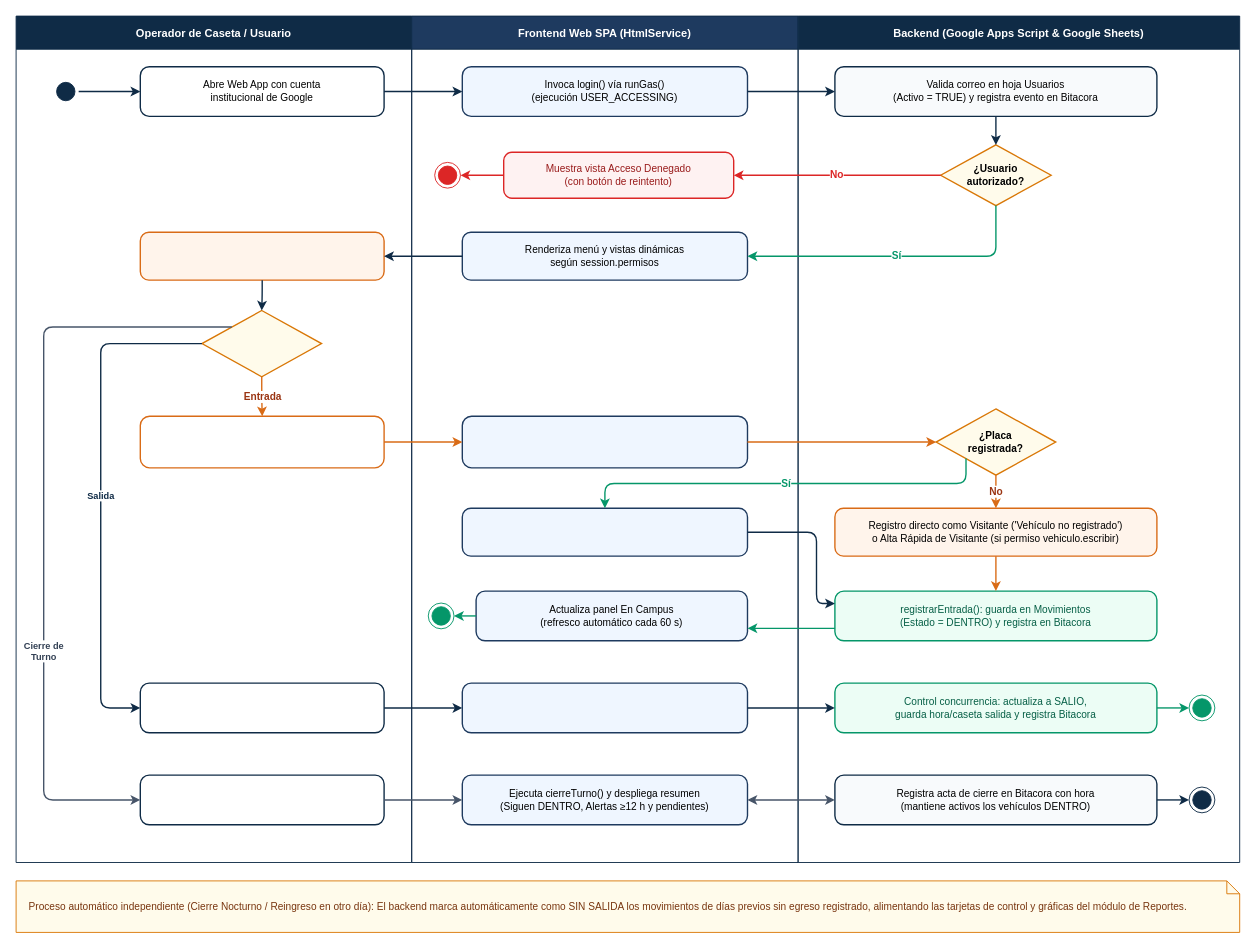
The diagram is 1256 pixels wide and 949 high, and some of its shapes have lost their labels. The shapes that lost their labels are listed below. From the top down, each one's centre as x and y in pixels, then its label:
At (x=261, y=255): "Selecciona Caseta Activa (obligatorio) Caseta 1 Principal / 2 Norte / 3 Sur".
At (x=261, y=343): "¿Acción operativa?".
At (x=261, y=441): "Captura placa (5-8 chars, sin guiones) o escanea QR (cámara nativa / foto / USB)".
At (x=604, y=441): "Autocompleta (debounce 250 ms) e invoca buscarVehiculoPorPlaca()".
At (x=604, y=531): "Muestra ficha del titular autorizado (alerta si inactivo) y evita doble entrada".
At (x=261, y=707): "Ubica vehículo en panel En Campus y pulsa Registrar Salida".
At (x=604, y=707): "Bloquea botón (anti doble clic) e invoca registrarSalida()".
At (x=261, y=799): "Pulsa Cierre de Turno y captura observaciones de entrega (opcional)".
